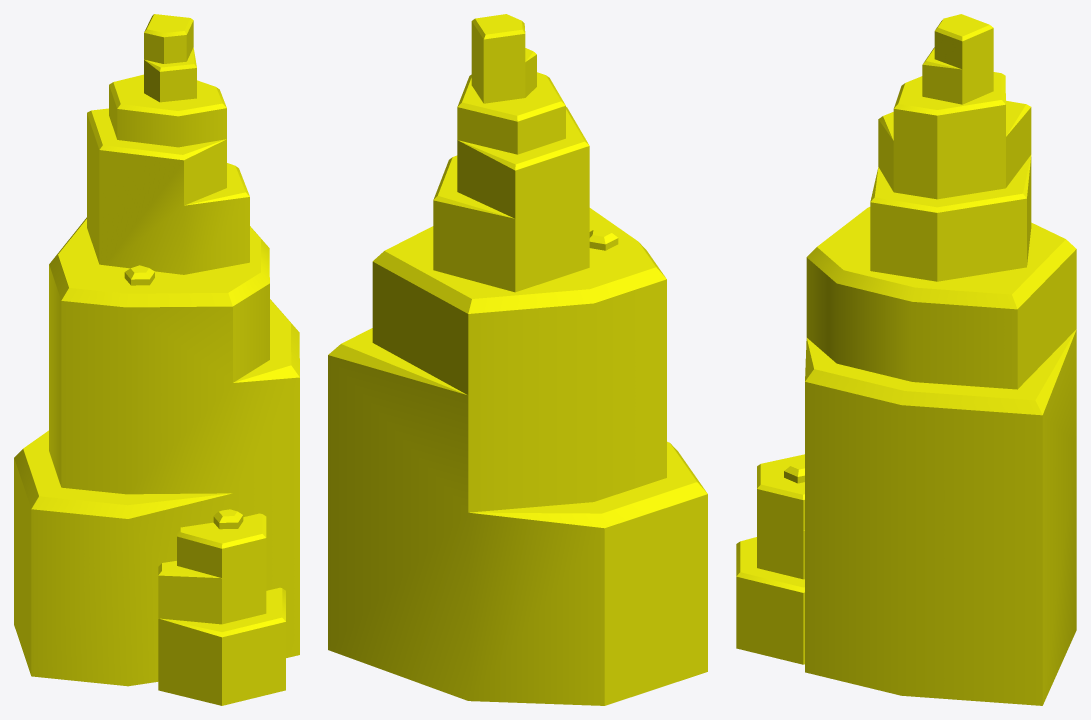
File: kaykit-rock-1-n-color-1.glb
3 views of the same model, side by side, from view 1: azimuth 30°, elevation 25°; view 2: azimuth 150°, elevation 25°; view 3: azimuth 270°, elevation 25° (orthographic). The views are drawn at different scales.
Parts seen in each view (by area): view 1: Rock_1_N_Color1; view 2: Rock_1_N_Color1; view 3: Rock_1_N_Color1.
Part boxes in pixels (x1,y1,x2,y2): Rock_1_N_Color1: (14, 14, 299, 705); Rock_1_N_Color1: (328, 14, 707, 705); Rock_1_N_Color1: (736, 14, 1076, 705).
Size of the model in its own units: 2.31 by 4.5 by 2.24.
